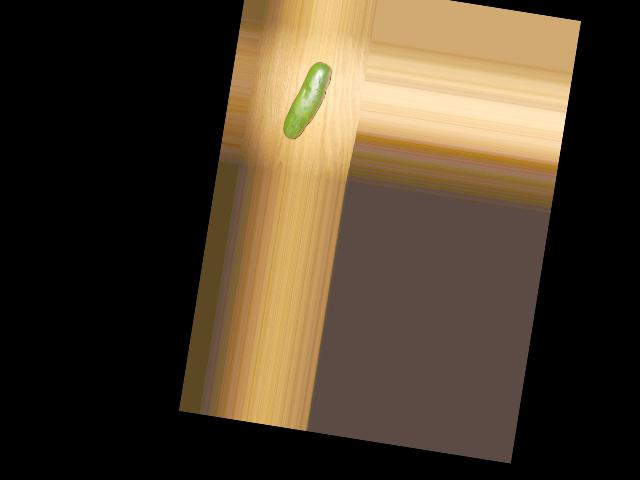cucumber: (282, 59, 333, 144)
